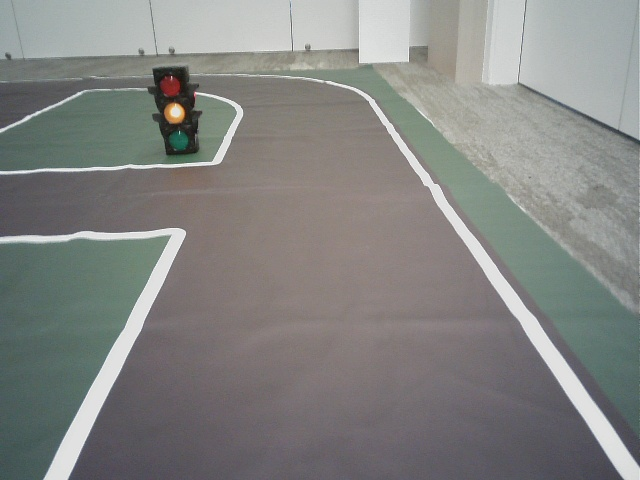yellow: (154, 72, 193, 150)
